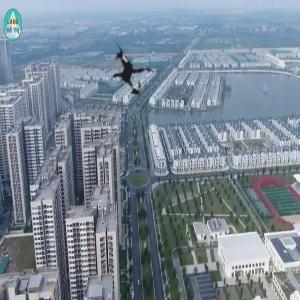drone: (84, 23, 179, 118)
